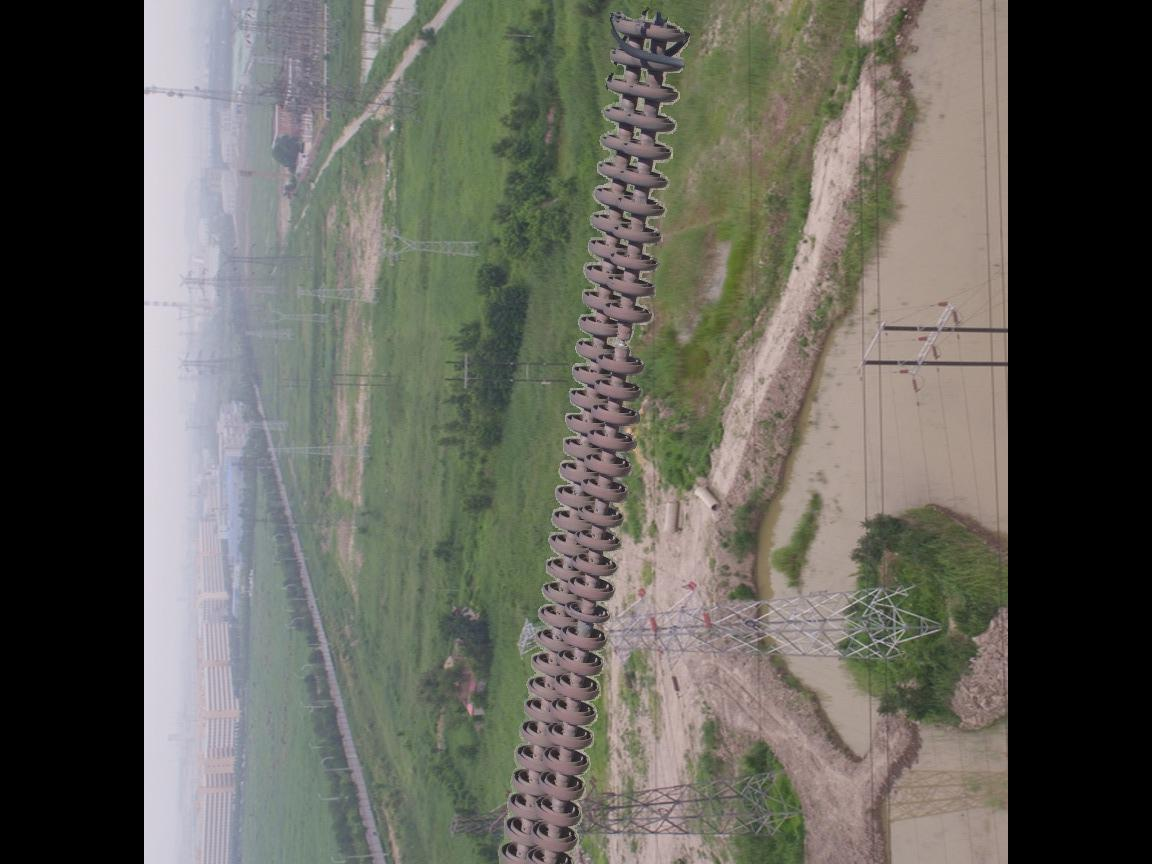insulator: (490, 7, 687, 864)
insulator_stringdrop: (592, 298, 655, 379)
